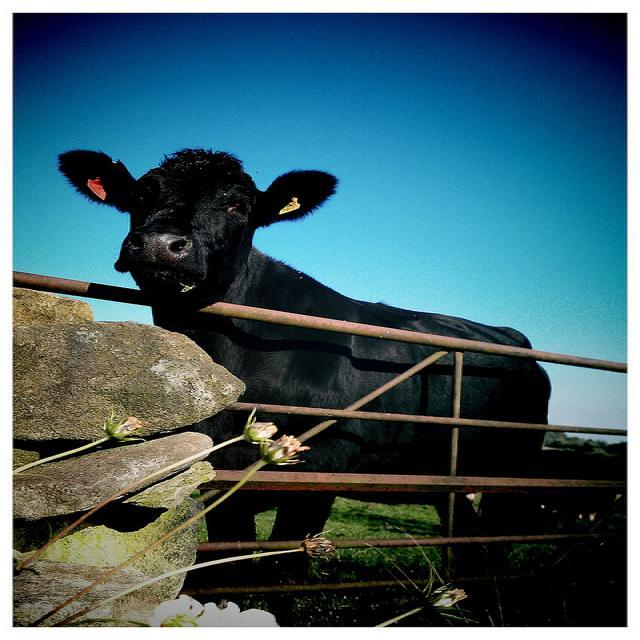cow: (57, 147, 551, 572), (475, 447, 625, 538)
